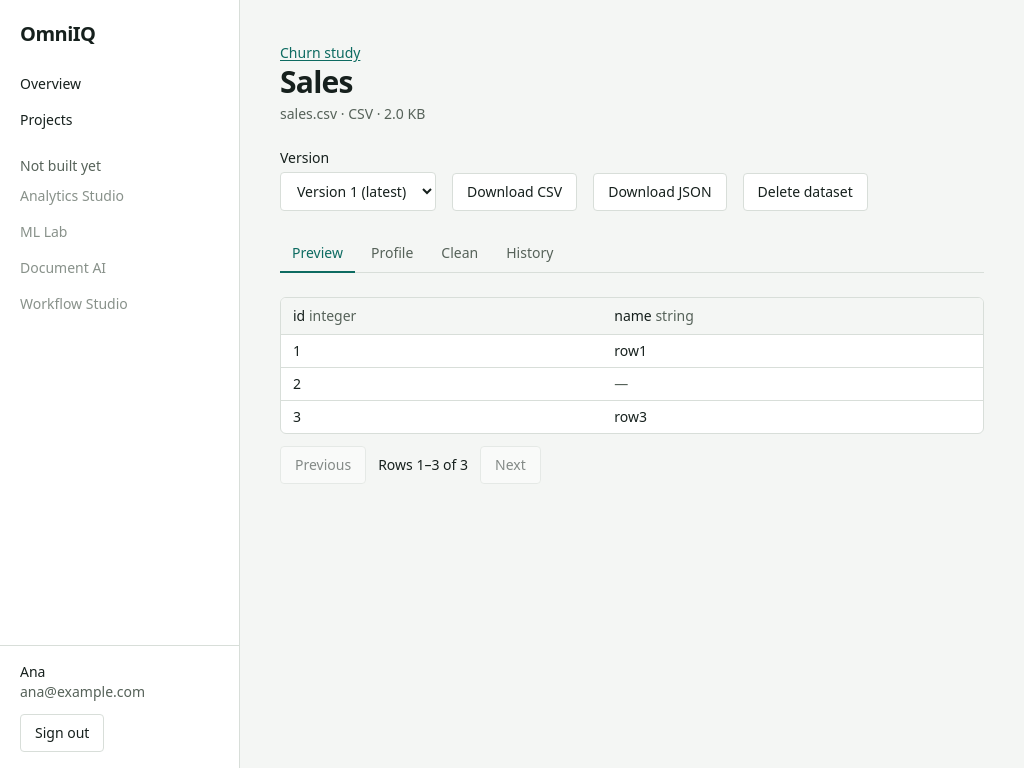
Test case: Export, roles and delete › tells the user when an export fails
The width and height of the screenshot is (1024, 768).
Click the button "Download JSON".
click(660, 192)  # box [593,173,726,211]
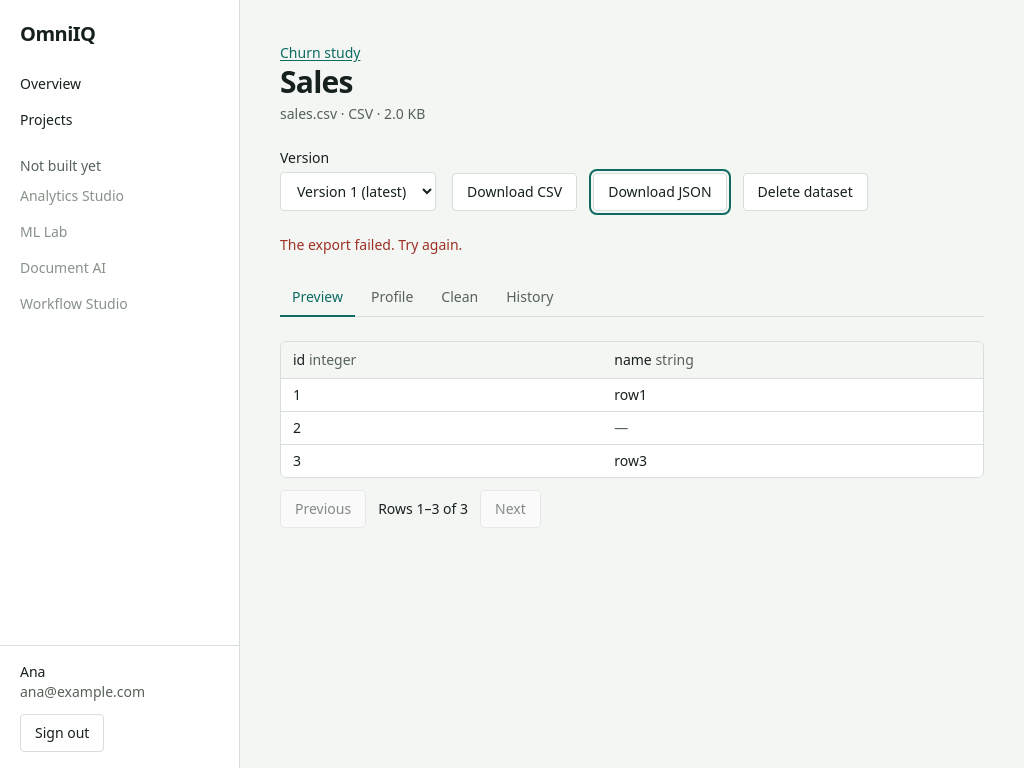
Expected: the message shows "The export failed.", [280,235,462,254]
